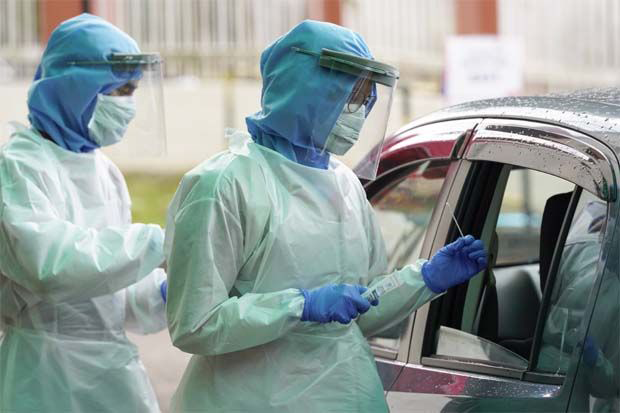Coverall: (173, 29, 401, 413), (1, 33, 162, 413)
Gloves: (417, 235, 491, 298), (291, 286, 370, 326)
with_mask: (85, 78, 137, 149), (324, 83, 371, 159)
